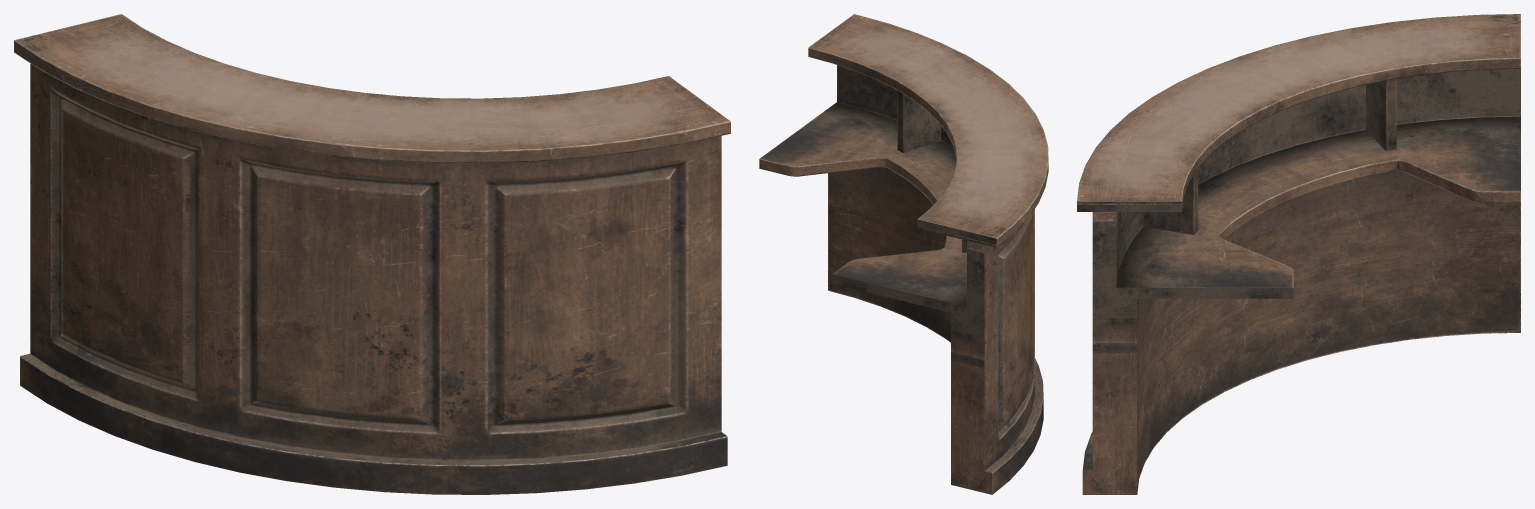
The model's file is SM_ReceptionDesk01_3_LOD0.glb.
3 renders of one model, left to right at view 1: azimuth 30°, elevation 25°; view 2: azimuth 150°, elevation 25°; view 3: azimuth 270°, elevation 25°, orthographic. The views are drawn at different scales.
Parts seen in each view (by area): view 1: SM_ReceptionDesk01_3_LOD0; view 2: SM_ReceptionDesk01_3_LOD0; view 3: SM_ReceptionDesk01_3_LOD0.
Boxes of the visible parts, left/top/right/bottom form: SM_ReceptionDesk01_3_LOD0: left=14, top=14, right=730, bottom=494; SM_ReceptionDesk01_3_LOD0: left=759, top=14, right=1048, bottom=494; SM_ReceptionDesk01_3_LOD0: left=1077, top=14, right=1520, bottom=494.
Bounding box in the file's own units: 1.79 × 1.3 × 1.79.
1 material, 1 textured.
